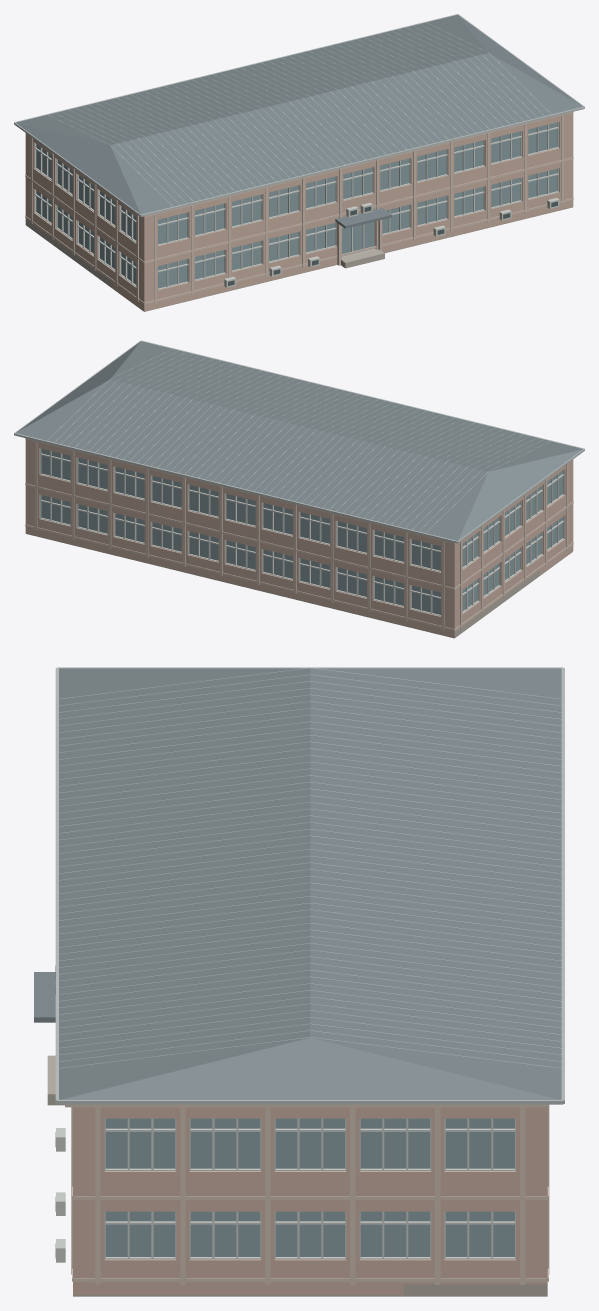
3 views of the same model, one above another, from view 1: azimuth 30°, elevation 25°; view 2: azimuth 150°, elevation 25°; view 3: azimuth 270°, elevation 25° (orthographic). The views are drawn at different scales.
Visible parts, largest first — view 1: rotc__hippedRoof, rotc__wall, rotc__windowGlass, rotc__frame, rotc__metalRoofSeams, rotc__verticalWallDivisions, rotc__horizontalWallDivisions, rotc__roofEdge, rotc__foundation, rotc__reveal, rotc__airUnits, rotc__entranceGlass (+2 smaller); view 2: rotc__hippedRoof, rotc__wall, rotc__windowGlass, rotc__frame, rotc__metalRoofSeams, rotc__verticalWallDivisions, rotc__horizontalWallDivisions, rotc__roofEdge, rotc__foundation, rotc__reveal; view 3: rotc__hippedRoof, rotc__wall, rotc__windowGlass, rotc__metalRoofSeams, rotc__frame, rotc__verticalWallDivisions, rotc__roofEdge, rotc__horizontalWallDivisions, rotc__foundation, rotc__entryCanopy.
Part boxes in pixels (<box>): rotc__hippedRoof: <box>16,15,582,214</box>; rotc__wall: <box>25,113,573,311</box>; rotc__windowGlass: <box>36,122,557,288</box>; rotc__frame: <box>34,122,558,289</box>; rotc__metalRoofSeams: <box>47,22,551,206</box>; rotc__verticalWallDivisions: <box>30,114,563,303</box>; rotc__horizontalWallDivisions: <box>25,111,573,304</box>; rotc__roofEdge: <box>14,14,584,216</box>; rotc__foundation: <box>25,207,572,311</box>; rotc__reveal: <box>33,122,559,289</box>; rotc__airUnits: <box>224,198,559,287</box>; rotc__entranceGlass: <box>342,222,373,253</box>; rotc__hippedRoof: <box>16,341,582,540</box>; rotc__wall: <box>25,439,573,637</box>; rotc__windowGlass: <box>41,448,562,614</box>; rotc__frame: <box>40,448,564,616</box>; rotc__metalRoofSeams: <box>47,349,551,533</box>; rotc__verticalWallDivisions: <box>35,440,568,629</box>; rotc__horizontalWallDivisions: <box>25,438,573,630</box>; rotc__roofEdge: <box>14,340,584,543</box>; rotc__foundation: <box>25,533,572,638</box>; rotc__reveal: <box>39,469,565,613</box>; rotc__hippedRoof: <box>59,668,561,1099</box>; rotc__wall: <box>73,1107,547,1295</box>; rotc__windowGlass: <box>105,1118,514,1256</box>; rotc__metalRoofSeams: <box>57,667,562,1068</box>; rotc__frame: <box>104,1118,515,1259</box>; rotc__verticalWallDivisions: <box>71,1104,549,1284</box>; rotc__roofEdge: <box>55,667,564,1104</box>; rotc__horizontalWallDivisions: <box>72,1104,548,1282</box>; rotc__foundation: <box>73,1284,547,1296</box>; rotc__entryCanopy: <box>34,972,55,1022</box>.
Bounding box in the file's own units: 37.12 × 9.37 × 19.21.
